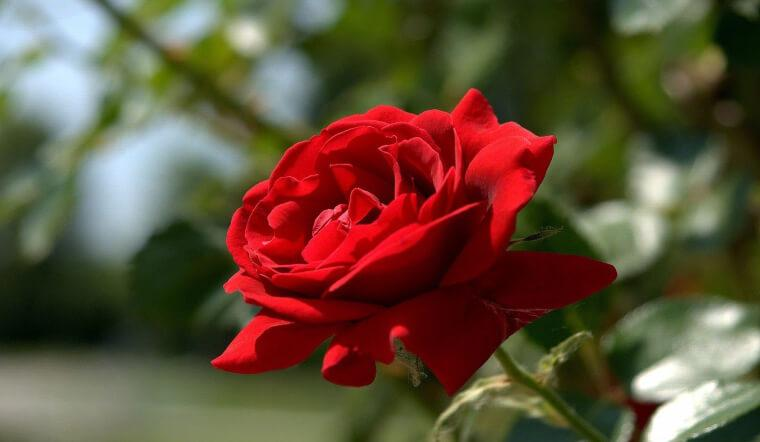rose: (209, 86, 618, 396)
